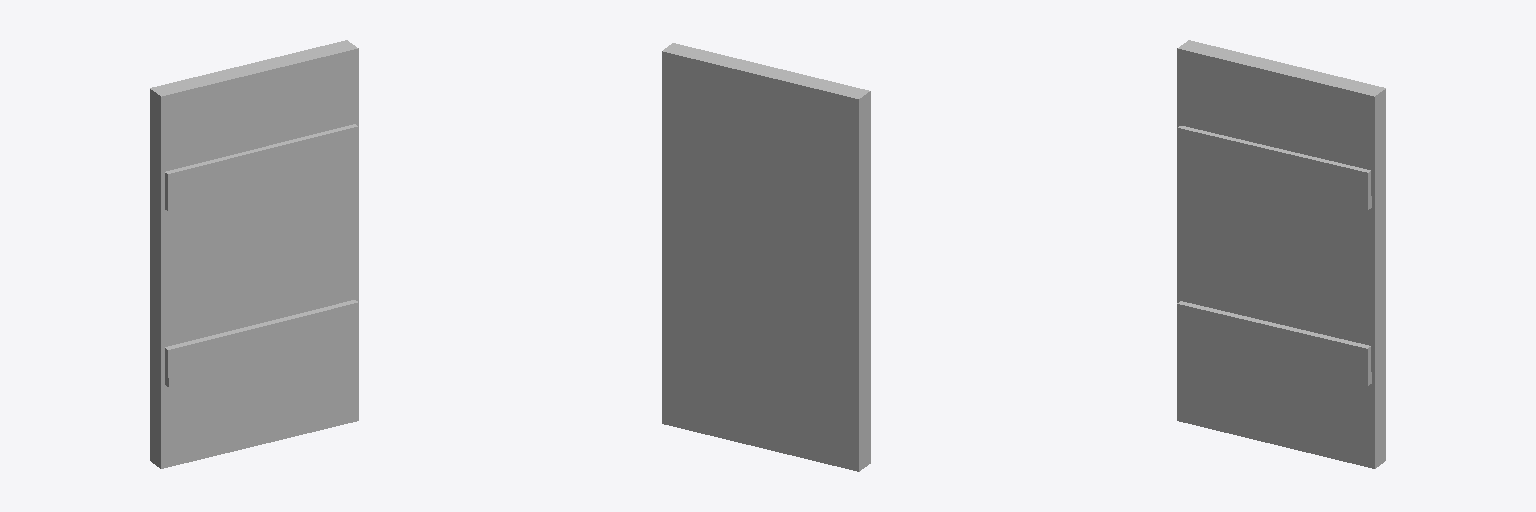
The model's file is doorExport.obj.
The picture shows the model from 3 angles: view 1: azimuth 30°, elevation 25°; view 2: azimuth 150°, elevation 25°; view 3: azimuth 330°, elevation 25°; orthographic projection.
Visible parts, largest first — view 1: default; view 2: default; view 3: default.
Part boxes in pixels (x1,y1,x2,y2): default: (150,40,358,468); default: (662,43,870,471); default: (1177,40,1385,468).
Size of the model in its own units: 3.07 by 5.54 by 0.4128.